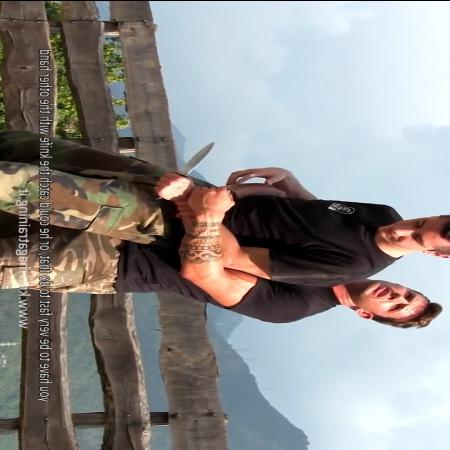long weapon: (148, 139, 220, 201)
